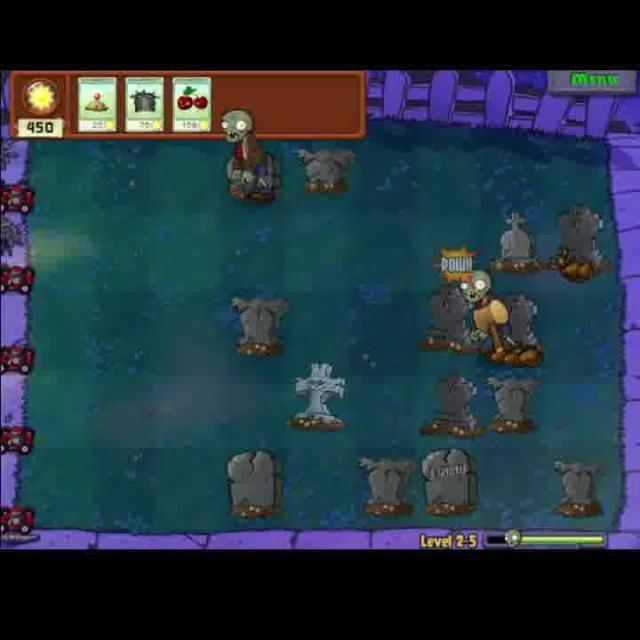zombies: (215, 106, 283, 206), (453, 265, 518, 363)
